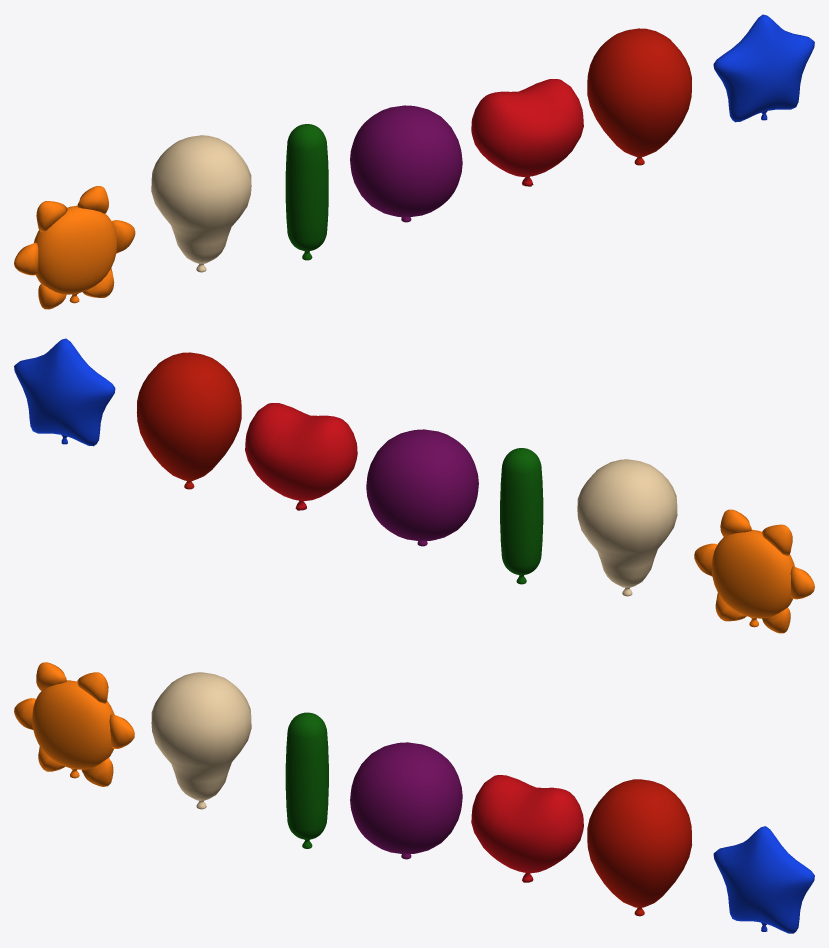
The model's file is Balloons.fbx.
3 renders of one model, top to bottom at view 1: azimuth 30°, elevation 25°; view 2: azimuth 150°, elevation 25°; view 3: azimuth 330°, elevation 25°, orthographic.
Parts seen in each view (by area): view 1: Object_8, Object_5, Object_6, Object_17, Object_13, Object_10, Object_12; view 2: Object_8, Object_5, Object_6, Object_17, Object_13, Object_10, Object_12; view 3: Object_8, Object_5, Object_6, Object_17, Object_13, Object_10, Object_12.
Part boxes in pixels (left/top/right/bottom): Object_8: left=587, top=28, right=691, bottom=165; Object_5: left=350, top=105, right=462, bottom=222; Object_6: left=151, top=135, right=251, bottom=272; Object_17: left=14, top=186, right=135, bottom=309; Object_13: left=471, top=79, right=583, bottom=186; Object_10: left=713, top=14, right=814, bottom=122; Object_12: left=285, top=124, right=328, bottom=260; Object_8: left=136, top=352, right=241, bottom=489; Object_5: left=366, top=429, right=478, bottom=546; Object_6: left=577, top=459, right=677, bottom=596; Object_17: left=694, top=509, right=814, bottom=633; Object_13: left=245, top=403, right=357, bottom=510; Object_10: left=14, top=338, right=115, bottom=446; Object_12: left=500, top=448, right=543, bottom=584; Object_8: left=587, top=779, right=692, bottom=916; Object_5: left=350, top=742, right=462, bottom=859; Object_6: left=151, top=672, right=251, bottom=809; Object_17: left=14, top=662, right=134, bottom=786; Object_13: left=471, top=775, right=583, bottom=882; Object_10: left=713, top=826, right=814, bottom=933; Object_12: left=285, top=712, right=328, bottom=848.
Bounding box in the file's own units: 323 × 55.62 × 38.75.
